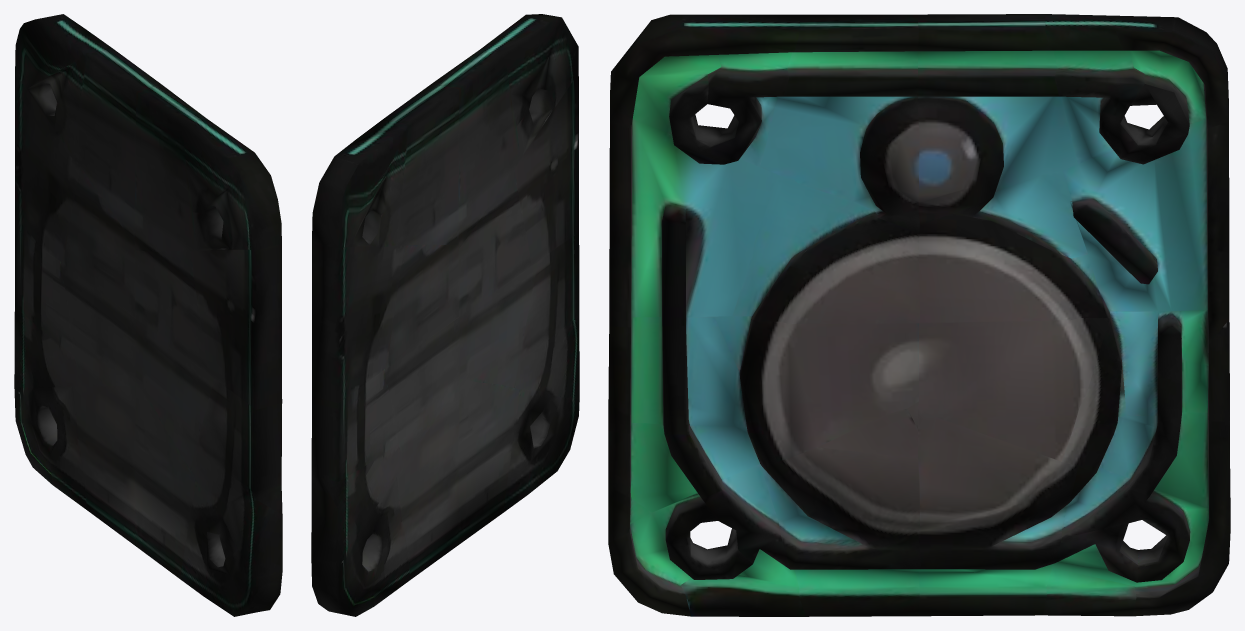
Rendered from speaker.glb.
The picture shows the model from 3 angles, left to right: view 1: azimuth 30°, elevation 25°; view 2: azimuth 150°, elevation 25°; view 3: azimuth 270°, elevation 25°; orthographic projection. The views are drawn at different scales.
Parts seen in each view (by area): view 1: tripo_node_55bf0eb7-2881-40e1-847a-2744b5aca7f8; view 2: tripo_node_55bf0eb7-2881-40e1-847a-2744b5aca7f8; view 3: tripo_node_55bf0eb7-2881-40e1-847a-2744b5aca7f8.
Boxes of the visible parts, <box> form: tripo_node_55bf0eb7-2881-40e1-847a-2744b5aca7f8: <box>14,14,282,616</box>; tripo_node_55bf0eb7-2881-40e1-847a-2744b5aca7f8: <box>311,14,579,616</box>; tripo_node_55bf0eb7-2881-40e1-847a-2744b5aca7f8: <box>608,14,1230,616</box>.
Size of the model in its own units: 0.0626 by 0.9993 by 0.9604.
Materials: 1 (1 with a texture image).
